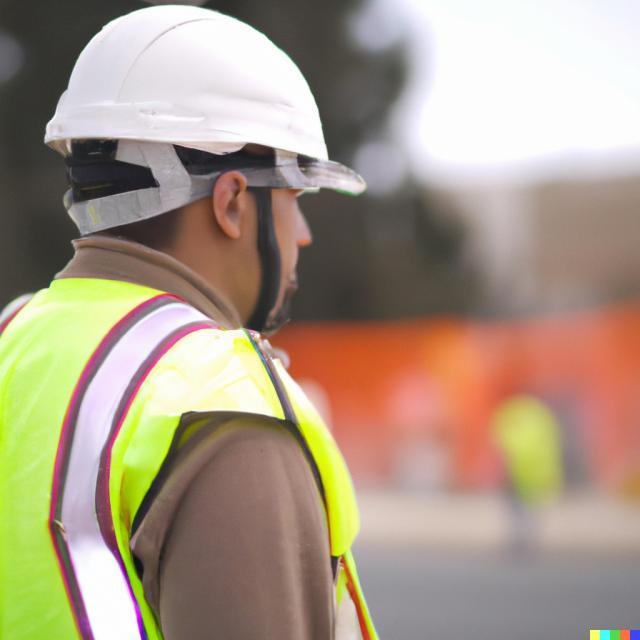reflective_jacket: (0, 275, 378, 637)
safety_helmet: (36, 5, 369, 184)
